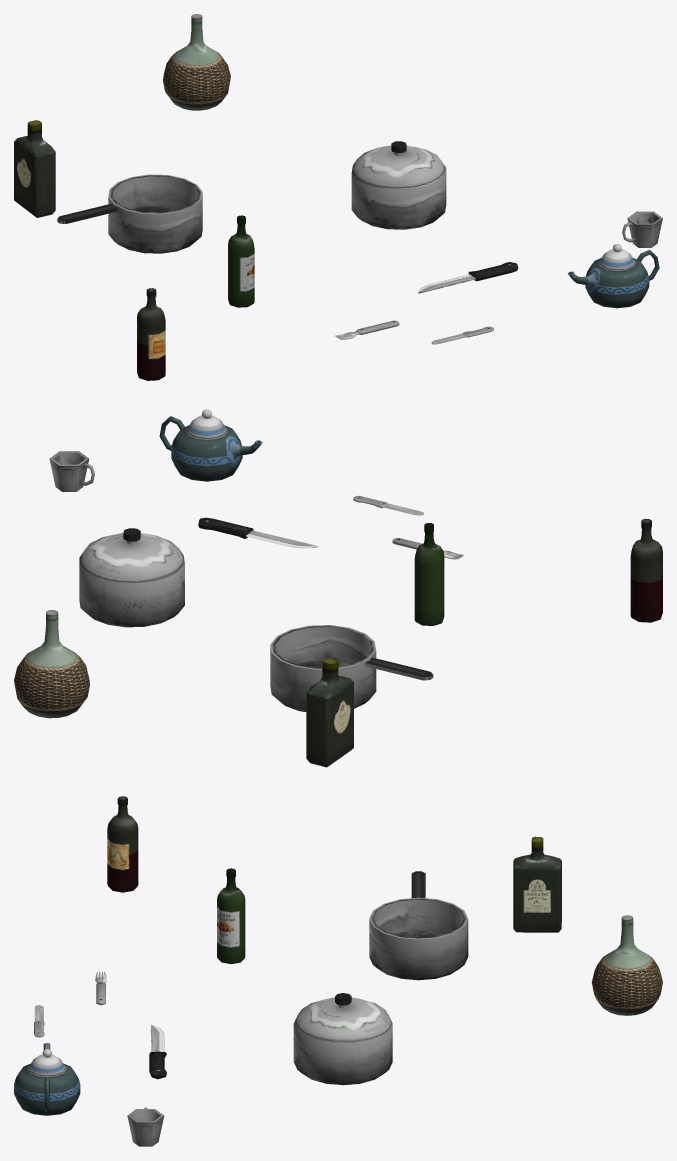
File: ustensiles.fbx
The picture shows the model from 3 angles, top to bottom: view 1: azimuth 30°, elevation 25°; view 2: azimuth 150°, elevation 25°; view 3: azimuth 270°, elevation 25°; orthographic projection. The views are drawn at different scales.
Parts seen in each view (by area): view 1: casserole, cocotte, litron, theiere, whisky, grosrouge, pinard, tasse, groscouteau; view 2: cocotte, casserole, litron, theiere, whisky, grosrouge, pinard, tasse, groscouteau; view 3: cocotte, casserole, litron, whisky, theiere, grosrouge, pinard, tasse, groscouteau.
Boxes of the visible parts, box(x1,y1,x2,y2) form: casserole: box(57, 174, 202, 253); cocotte: box(351, 141, 446, 229); litron: box(163, 14, 230, 110); theiere: box(567, 244, 659, 308); whisky: box(14, 120, 55, 217); grosrouge: box(137, 288, 165, 380); pinard: box(228, 215, 254, 307); tasse: box(622, 211, 662, 247); groscouteau: box(418, 262, 518, 293); cocotte: box(79, 528, 184, 627); casserole: box(270, 625, 433, 711); litron: box(14, 610, 89, 718); theiere: box(159, 409, 262, 481); whisky: box(306, 658, 353, 767); grosrouge: box(630, 518, 662, 622); pinard: box(414, 523, 444, 625); tasse: box(49, 451, 94, 491); groscouteau: box(198, 517, 317, 548); cocotte: box(293, 993, 392, 1085); casserole: box(369, 871, 468, 980); litron: box(591, 915, 662, 1015); whisky: box(513, 836, 561, 932); theiere: box(14, 1043, 80, 1115); grosrouge: box(107, 796, 138, 892); pinard: box(217, 868, 245, 963); tasse: box(127, 1107, 164, 1146); groscouteau: box(149, 1024, 166, 1079).
Size of the model in its own units: 230 by 46.08 by 234.
